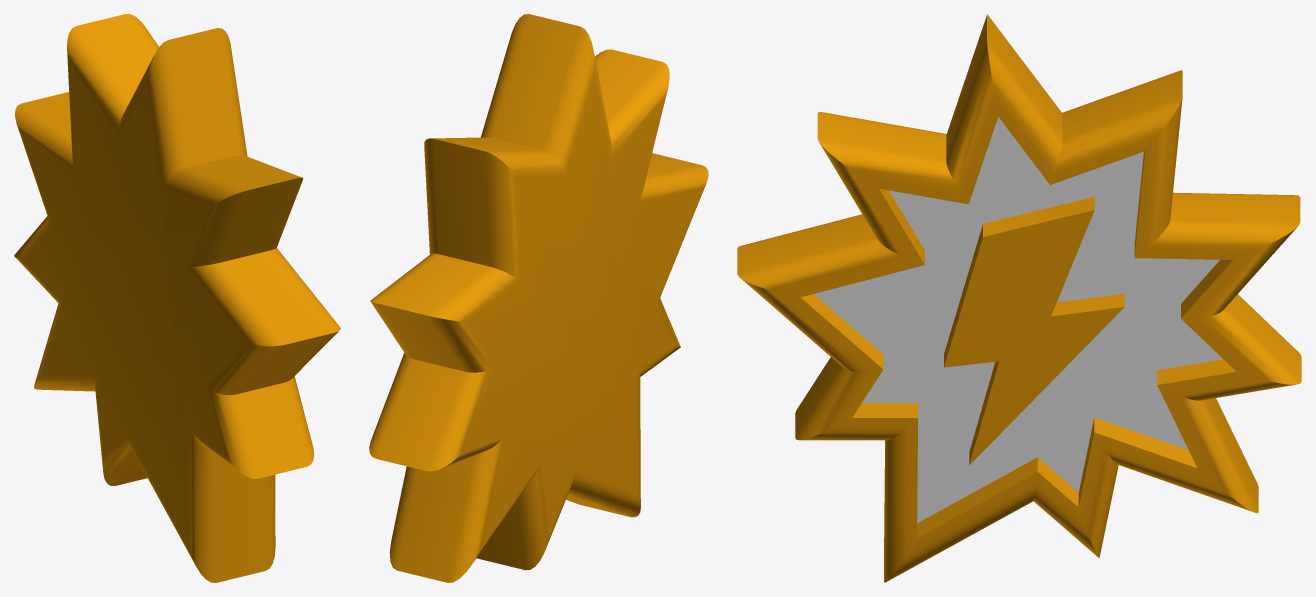
File: HIZ.fbx
3 views of the same model, side by side, from view 1: azimuth 30°, elevation 25°; view 2: azimuth 150°, elevation 25°; view 3: azimuth 270°, elevation 25° (orthographic). The views are drawn at different scales.
Visible parts, largest first — view 1: Plane; view 2: Plane; view 3: Plane.
Part boxes in pixels (x1,y1,x2,y2): Plane: (14, 14, 340, 582); Plane: (369, 14, 708, 582); Plane: (737, 14, 1301, 582).
Size of the model in its own units: 57.72 by 333 by 314.
